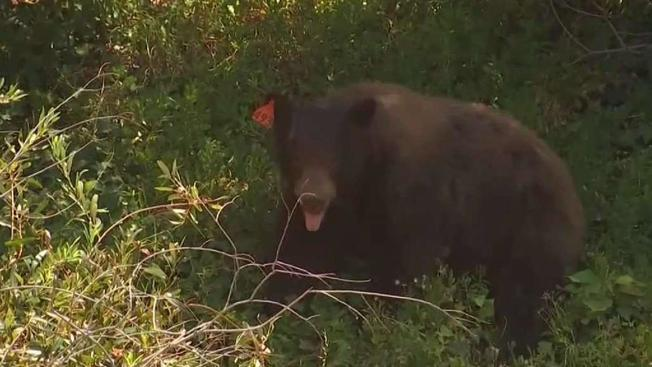bear: (249, 89, 382, 235)
